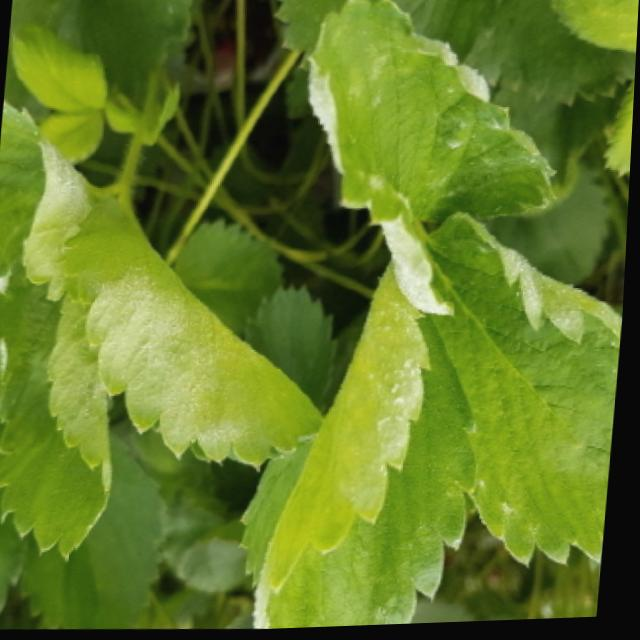Powdery Mildew Leaf: (256, 261, 482, 631), (305, 0, 560, 320), (64, 189, 331, 475), (428, 210, 626, 570), (0, 96, 98, 303)
